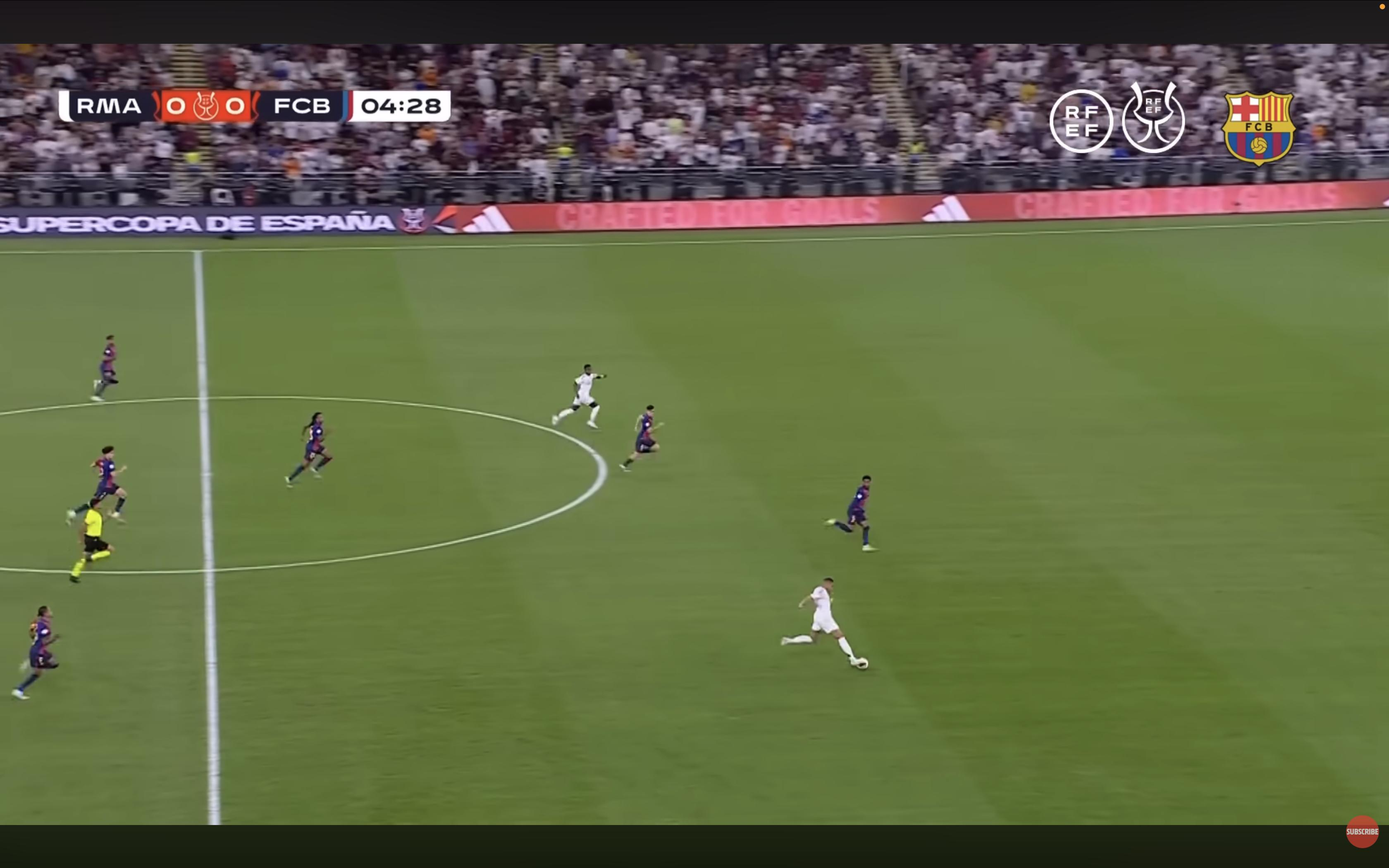ball: (852, 658, 868, 670)
player: (781, 577, 867, 669), (12, 606, 58, 699), (825, 475, 876, 551), (285, 413, 332, 487), (552, 365, 605, 429), (89, 446, 127, 522), (620, 405, 663, 471), (91, 335, 118, 401)
referee: (70, 499, 113, 583)
